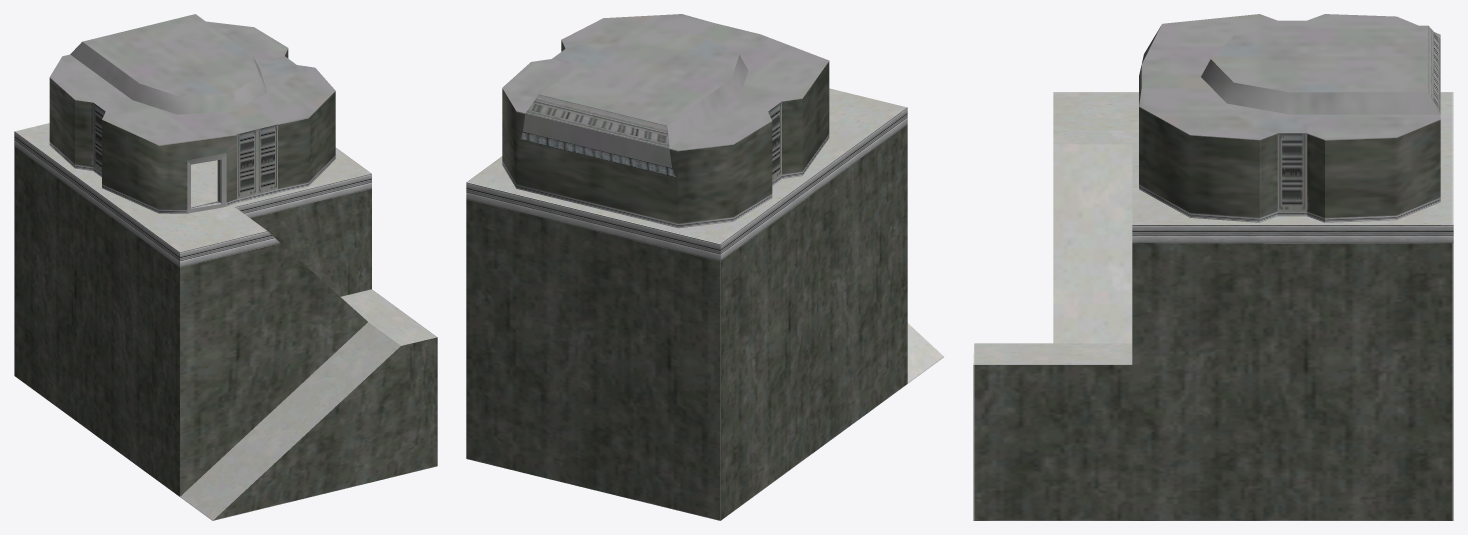
Rendered from ply_corl_house_sm_s02_fp2_r0_mesh_l2.fbx.
The picture shows the model from 3 angles, left to right: view 1: azimuth 30°, elevation 25°; view 2: azimuth 150°, elevation 25°; view 3: azimuth 270°, elevation 25°; orthographic projection. The views are drawn at different scales.
Visible parts, largest first — view 1: mesh_node; view 2: mesh_node; view 3: mesh_node.
Boxes of the visible parts, bbox=[...] form: mesh_node: bbox=[14, 14, 437, 520]; mesh_node: bbox=[466, 14, 943, 520]; mesh_node: bbox=[973, 14, 1453, 520].
Bounding box in the file's own units: 15.87 × 22.12 × 24.27.
